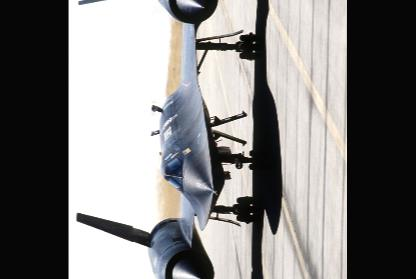Rafale: (74, 0, 270, 278)
